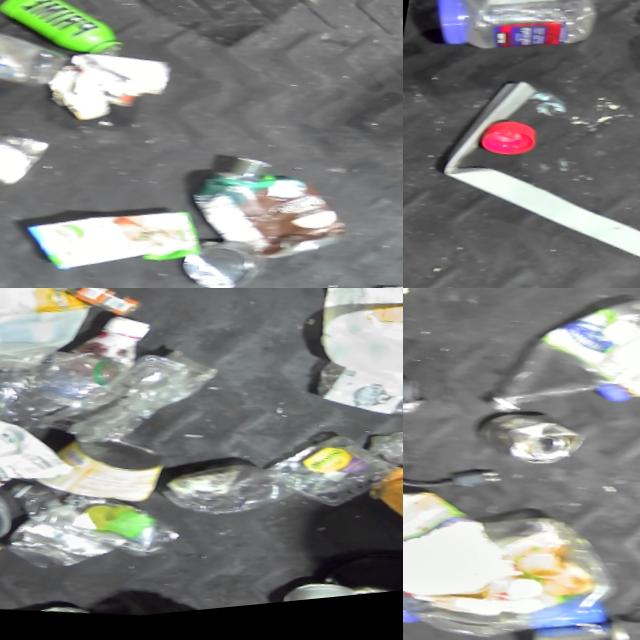can: (26, 427, 172, 520), (476, 403, 594, 478), (167, 232, 295, 288), (0, 112, 63, 200), (0, 589, 131, 631), (529, 610, 640, 640)
milk_jug: (0, 322, 133, 496), (288, 288, 403, 422), (0, 288, 100, 381)
non_white_jug: (176, 141, 372, 283)
plastic_bottle: (486, 288, 640, 440), (60, 337, 219, 460), (358, 426, 403, 496)
